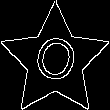O_S: (28, 30, 82, 91)
